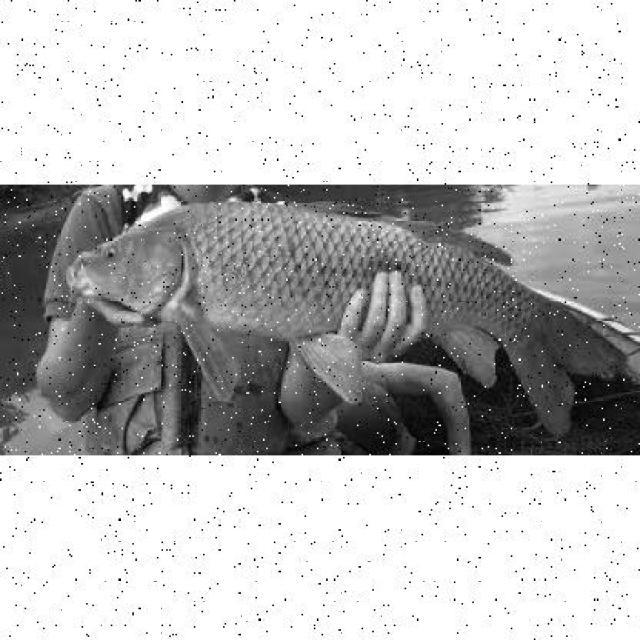ikan-mas: (72, 196, 586, 418)
